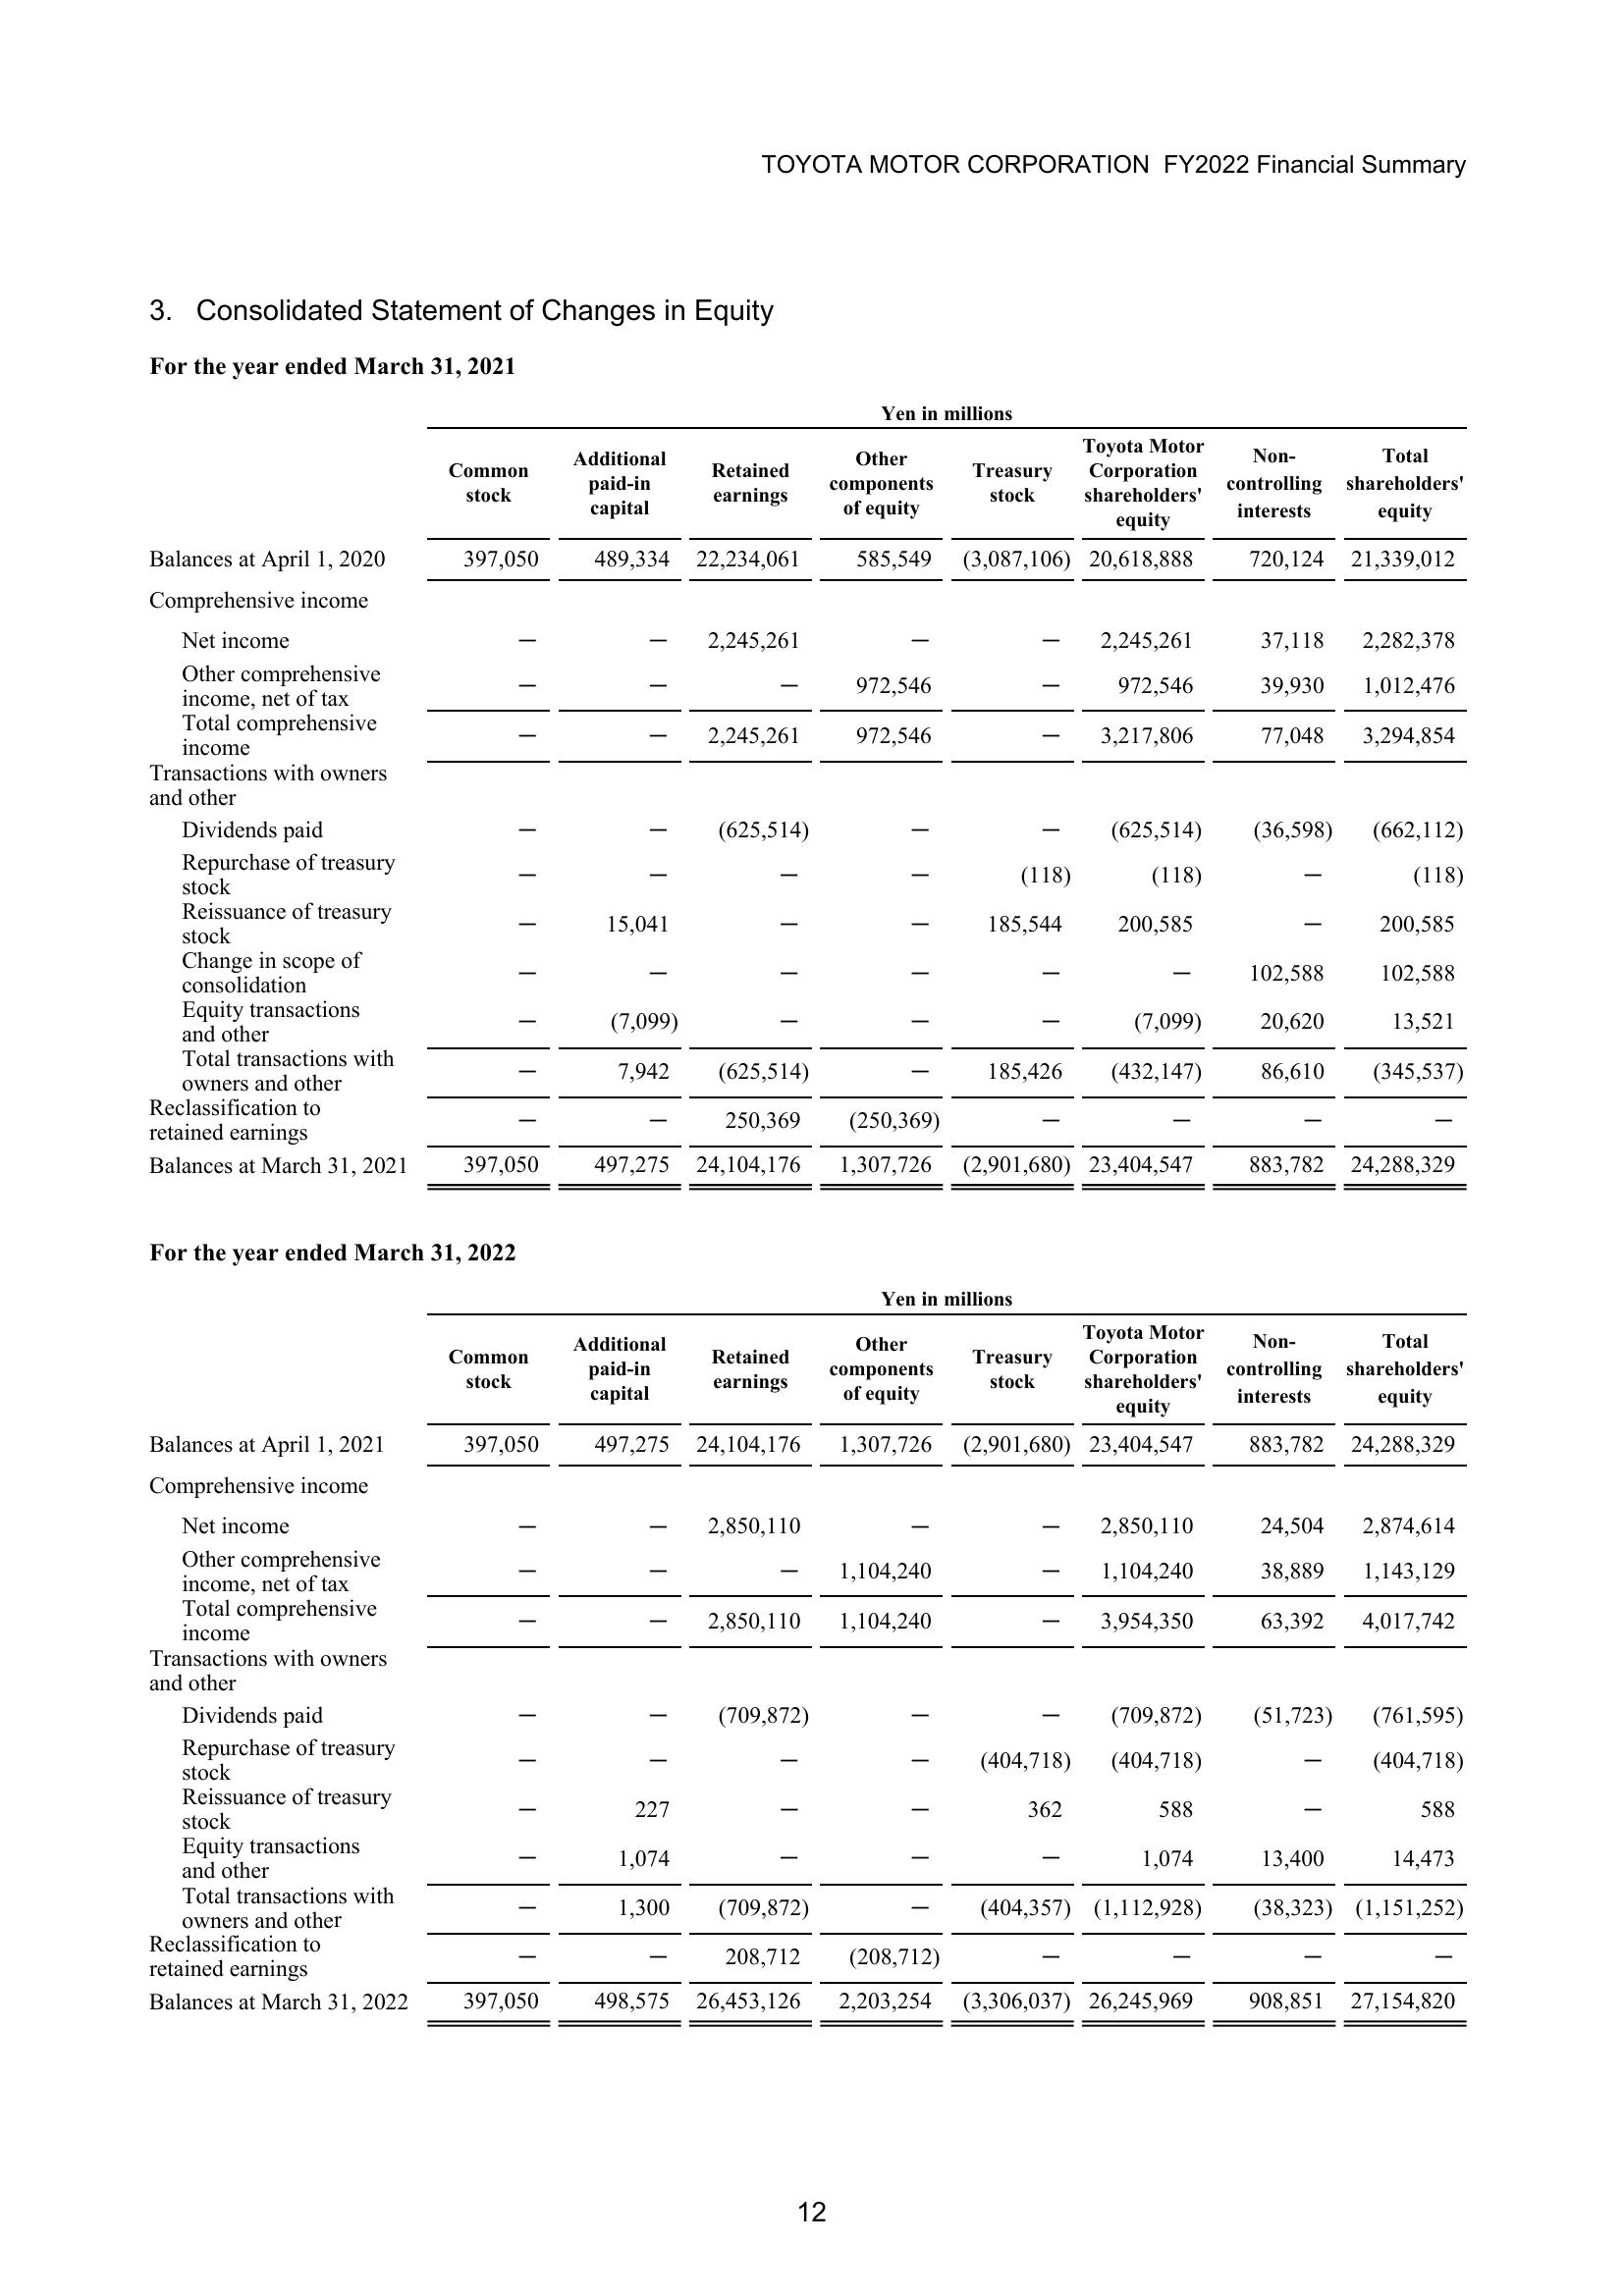Footer: (0, 2180, 1624, 2296)
Header: (0, 0, 1624, 206)
Table: (65, 393, 1492, 1182), (109, 1281, 1475, 2032)
